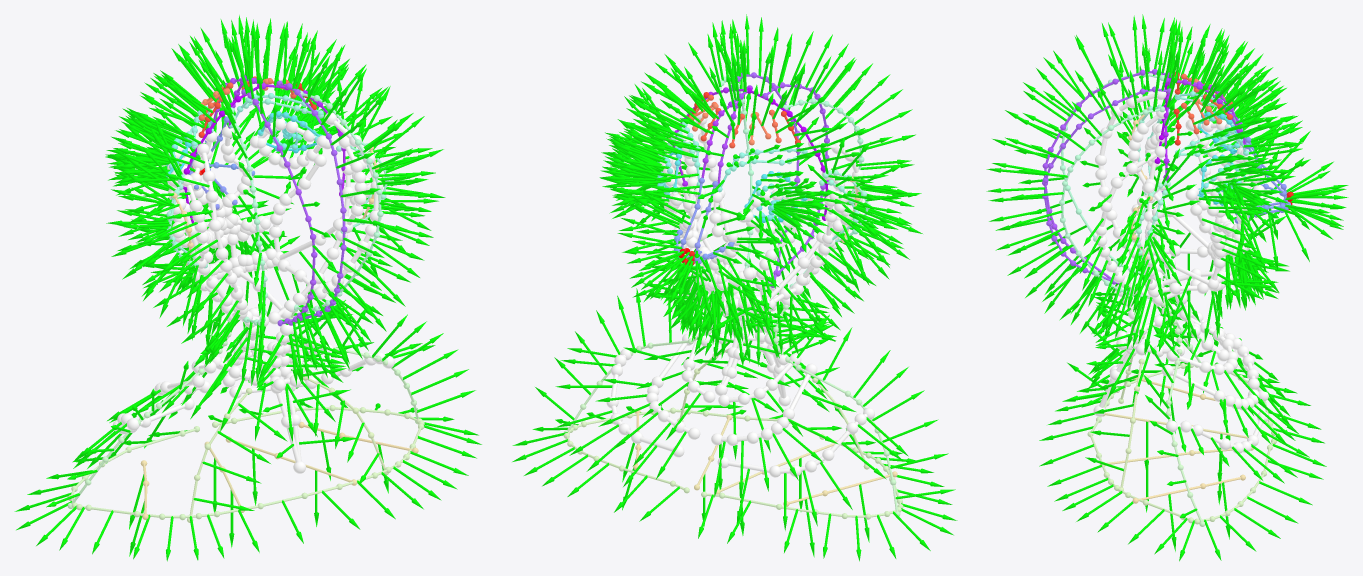
The model's file is author1_bust.gltf.
3 renders of one model, left to right at view 1: azimuth 30°, elevation 25°; view 2: azimuth 150°, elevation 25°; view 3: azimuth 270°, elevation 25°, orthographic. The views are drawn at different scales.
Size of the model in its own units: 0.7936 by 0.86 by 0.6031.
